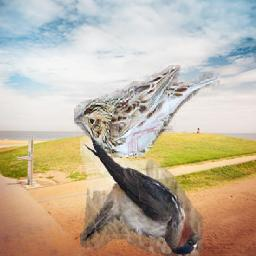Sparrow: (74, 66, 220, 159)
Swallow: (81, 136, 204, 256)
